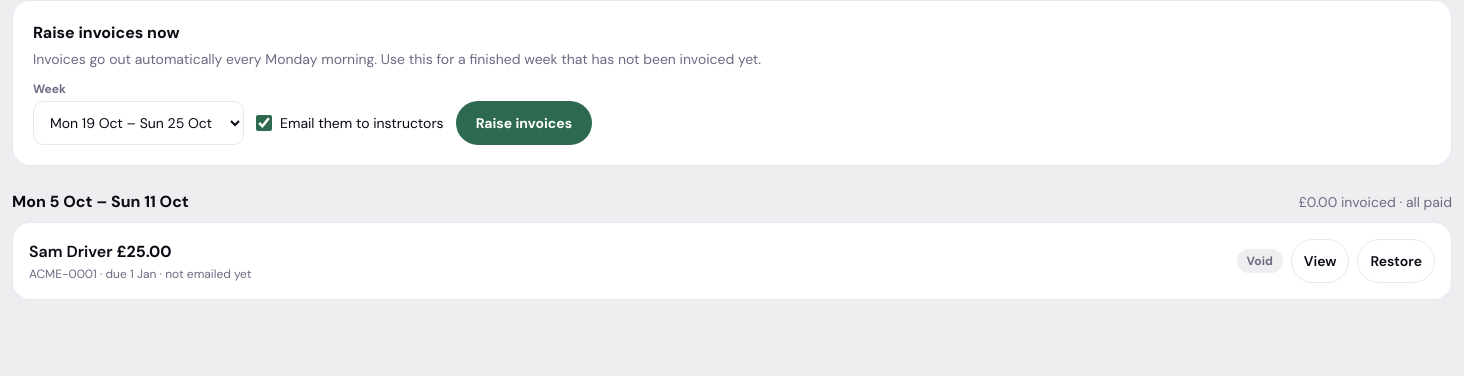
Test: InvoicesView › shows the API's refusal and keeps the invoice void
Step 1. Click the button "Restore" → [1396, 261], box top-left (1358, 239), bottom-right (1435, 283)
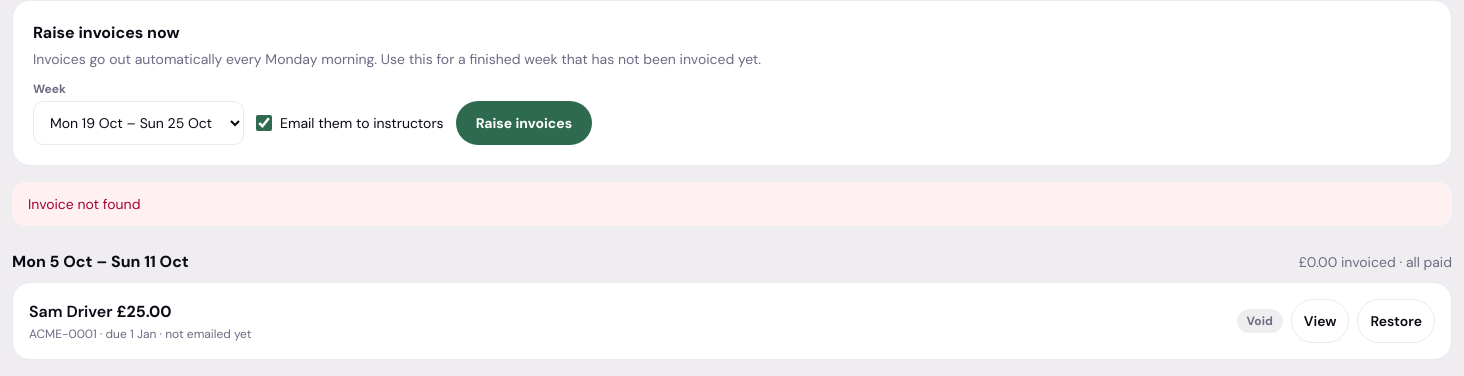
Expected: the button "Restore" is shown, top-left (1358, 299), bottom-right (1435, 343)
Expected: the message reads "Invoice not found", top-left (28, 195), bottom-right (140, 213)
